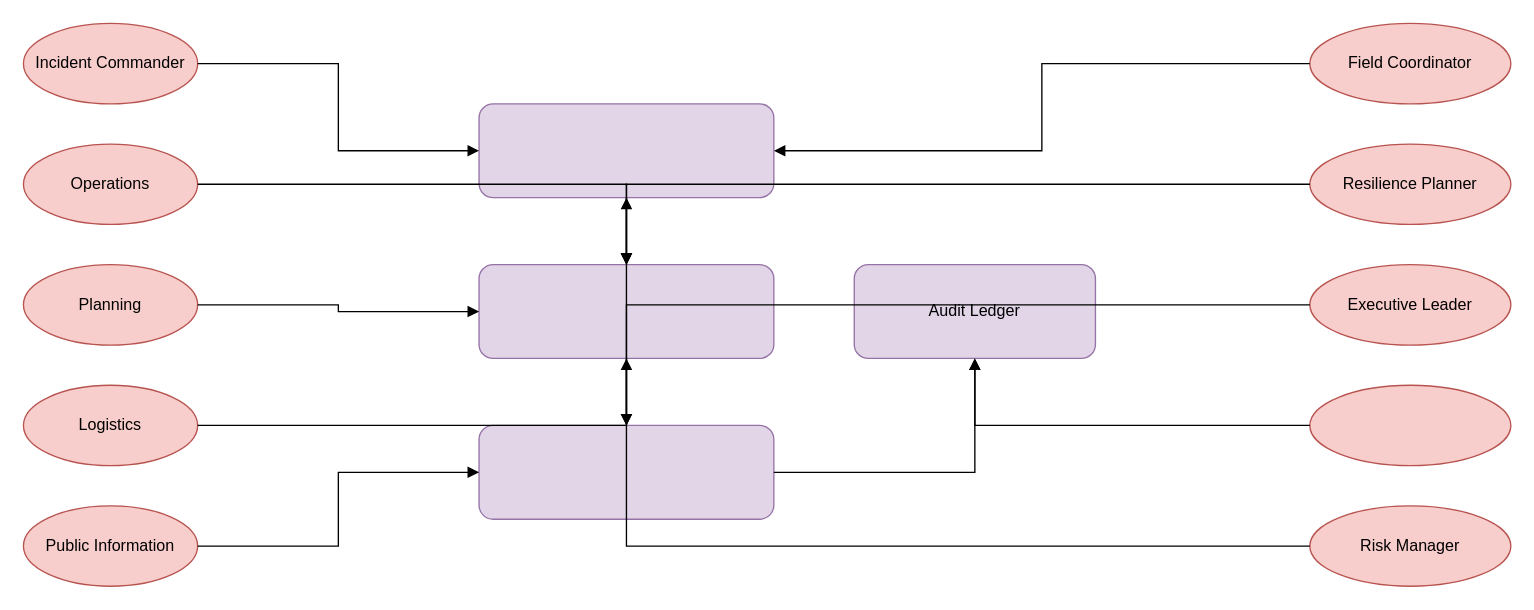
The diagram is 1534 pixels wide and 610 high, and some of its shapes have lost their labels. The box of each missing label's shape, as (x1, y1, x2, y2) in pixels:
Coordination Hub: (478, 103, 774, 198)
Observer / Auditor: (1309, 384, 1511, 466)
Public Warning Console: (478, 424, 774, 519)
Recommendation Engine: (478, 263, 774, 358)
